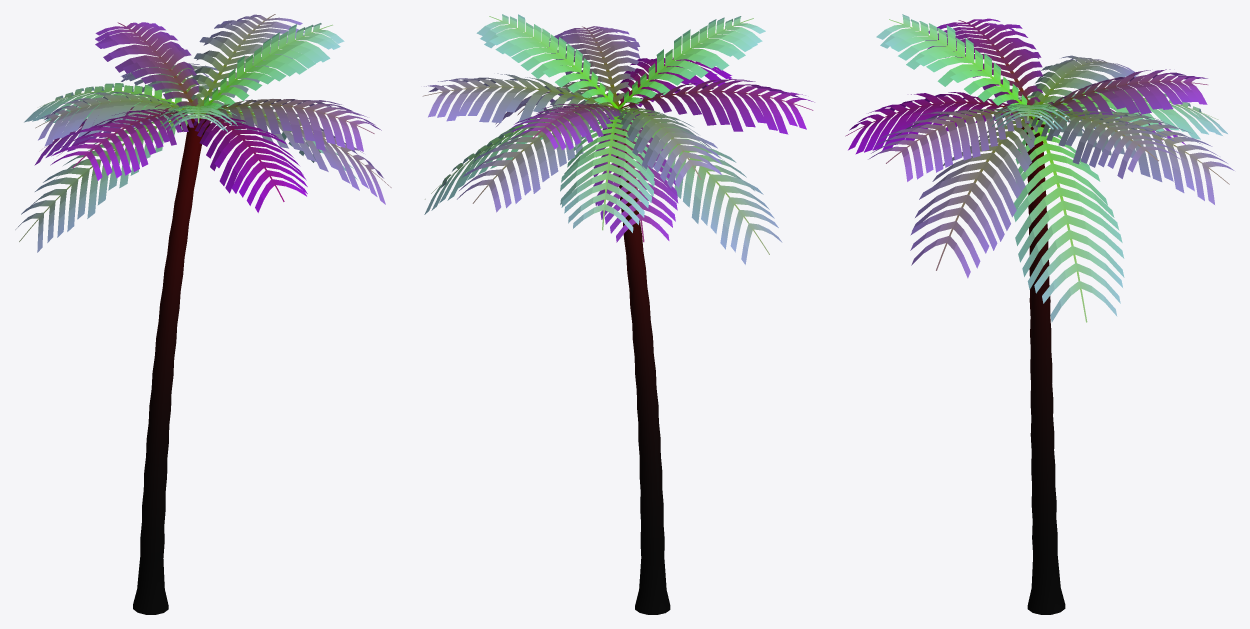
File: Palm0.fbx
The picture shows the model from 3 angles, left to right: view 1: azimuth 30°, elevation 25°; view 2: azimuth 150°, elevation 25°; view 3: azimuth 270°, elevation 25°; orthographic projection. The views are drawn at different scales.
Parts seen in each view (by area): view 1: Palm0; view 2: Palm0; view 3: Palm0.
Boxes of the visible parts, <box> form: Palm0: <box>15,14,391,614</box>; Palm0: <box>422,14,814,614</box>; Palm0: <box>845,14,1234,614</box>.
Bounding box in the file's own units: 9.11 × 14.05 × 8.63.
